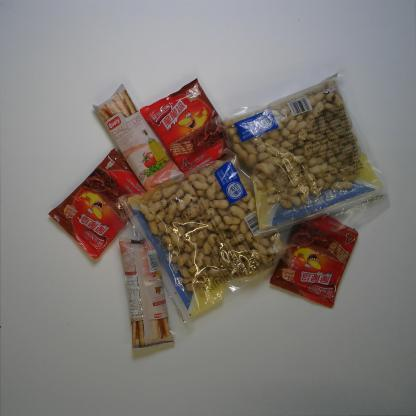Dessert: (46, 144, 147, 262), (91, 81, 186, 194), (139, 76, 234, 182), (268, 214, 359, 310), (117, 235, 176, 354)
Dried Food: (210, 66, 394, 256), (112, 146, 299, 332)
